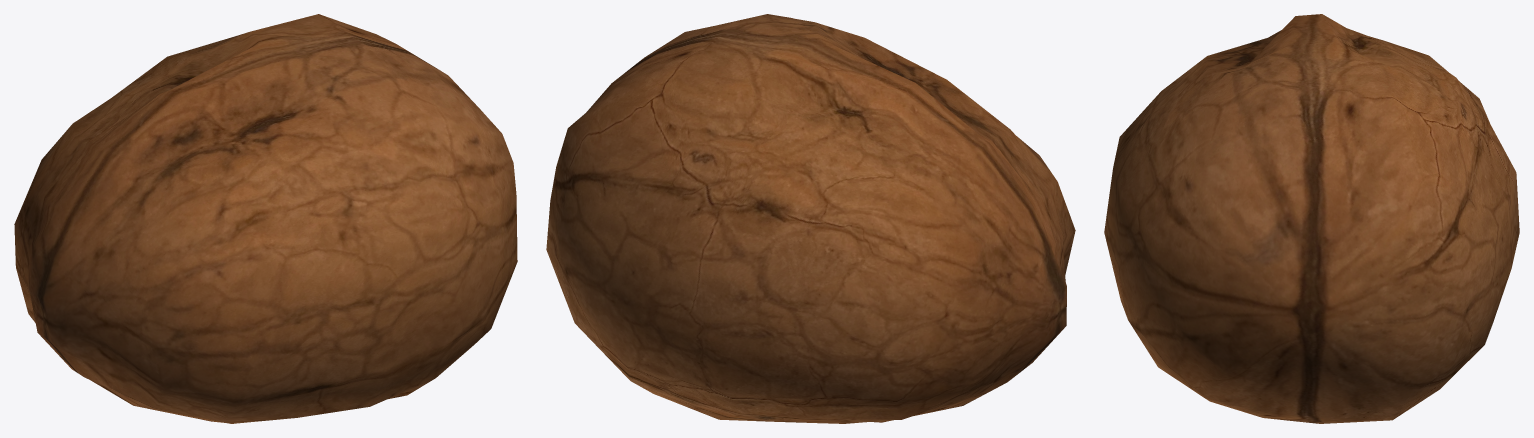
File: A89_Walnut_low.fbx
3 renders of one model, left to right at view 1: azimuth 30°, elevation 25°; view 2: azimuth 150°, elevation 25°; view 3: azimuth 270°, elevation 25°, orthographic. The views are drawn at different scales.
Parts seen in each view (by area): view 1: A89_Walnut_low; view 2: A89_Walnut_low; view 3: A89_Walnut_low.
Boxes of the visible parts, left/top/right/bottom form: A89_Walnut_low: left=14, top=14, right=517, bottom=423; A89_Walnut_low: left=546, top=14, right=1075, bottom=423; A89_Walnut_low: left=1104, top=14, right=1519, bottom=423.
Bounding box in the file's own units: 2.88 × 2.29 × 2.1.
Materials: 1 (1 with a texture image).
